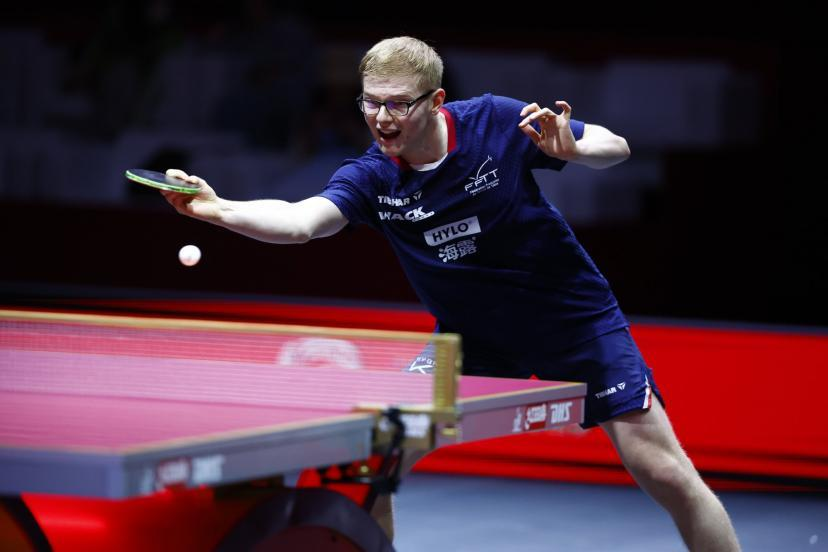ball_pingpong: (177, 243, 201, 268)
